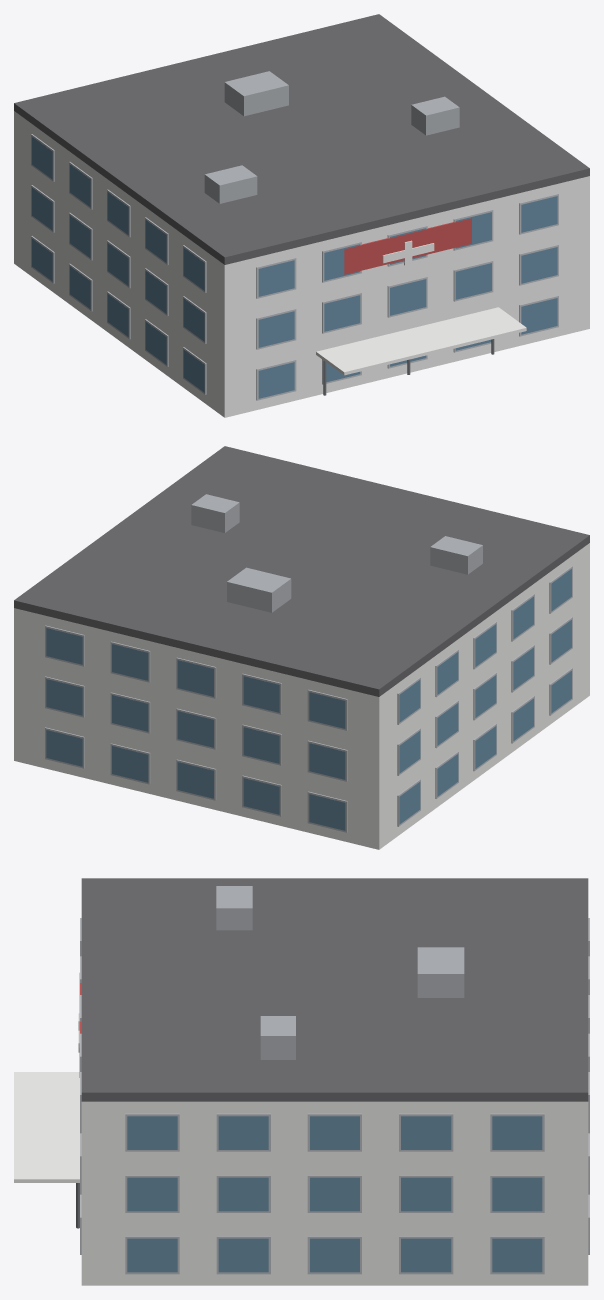
File: clinic.glb
3 renders of one model, top to bottom at view 1: azimuth 30°, elevation 25°; view 2: azimuth 150°, elevation 25°; view 3: azimuth 270°, elevation 25°, orthographic. The views are drawn at different scales.
Parts seen in each view (by area): view 1: Cube.125, Cube, Cube.002, Cube.001, Cube.124, Cube.126, Cube.121, Cube.122; view 2: Cube.125, Cube, Cube.002, Cube.001, Cube.126; view 3: Cube.125, Cube, Cube.002, Cube.001, Cube.124, Cube.126.
Part boxes in pixels (left/top/right/bottom): Cube.125: left=14, top=14, right=589, bottom=264; Cube: left=14, top=111, right=589, bottom=417; Cube.002: left=32, top=137, right=557, bottom=398; Cube.001: left=31, top=134, right=558, bottom=400; Cube.124: left=316, top=307, right=526, bottom=375; Cube.126: left=204, top=71, right=459, bottom=203; Cube.121: left=344, top=218, right=471, bottom=274; Cube.122: left=382, top=240, right=434, bottom=265; Cube.125: left=14, top=446, right=589, bottom=696; Cube: left=14, top=543, right=589, bottom=849; Cube.002: left=46, top=569, right=571, bottom=830; Cube.001: left=45, top=566, right=572, bottom=832; Cube.126: left=191, top=494, right=482, bottom=612; Cube.125: left=81, top=878, right=588, bottom=1101; Cube: left=81, top=1101, right=588, bottom=1285; Cube.002: left=127, top=1116, right=542, bottom=1272; Cube.001: left=80, top=918, right=589, bottom=1274; Cube.124: left=14, top=1072, right=79, bottom=1182; Cube.126: left=216, top=886, right=464, bottom=1059.
Size of the model in its own units: 30.2 by 14.18 by 34.1.
